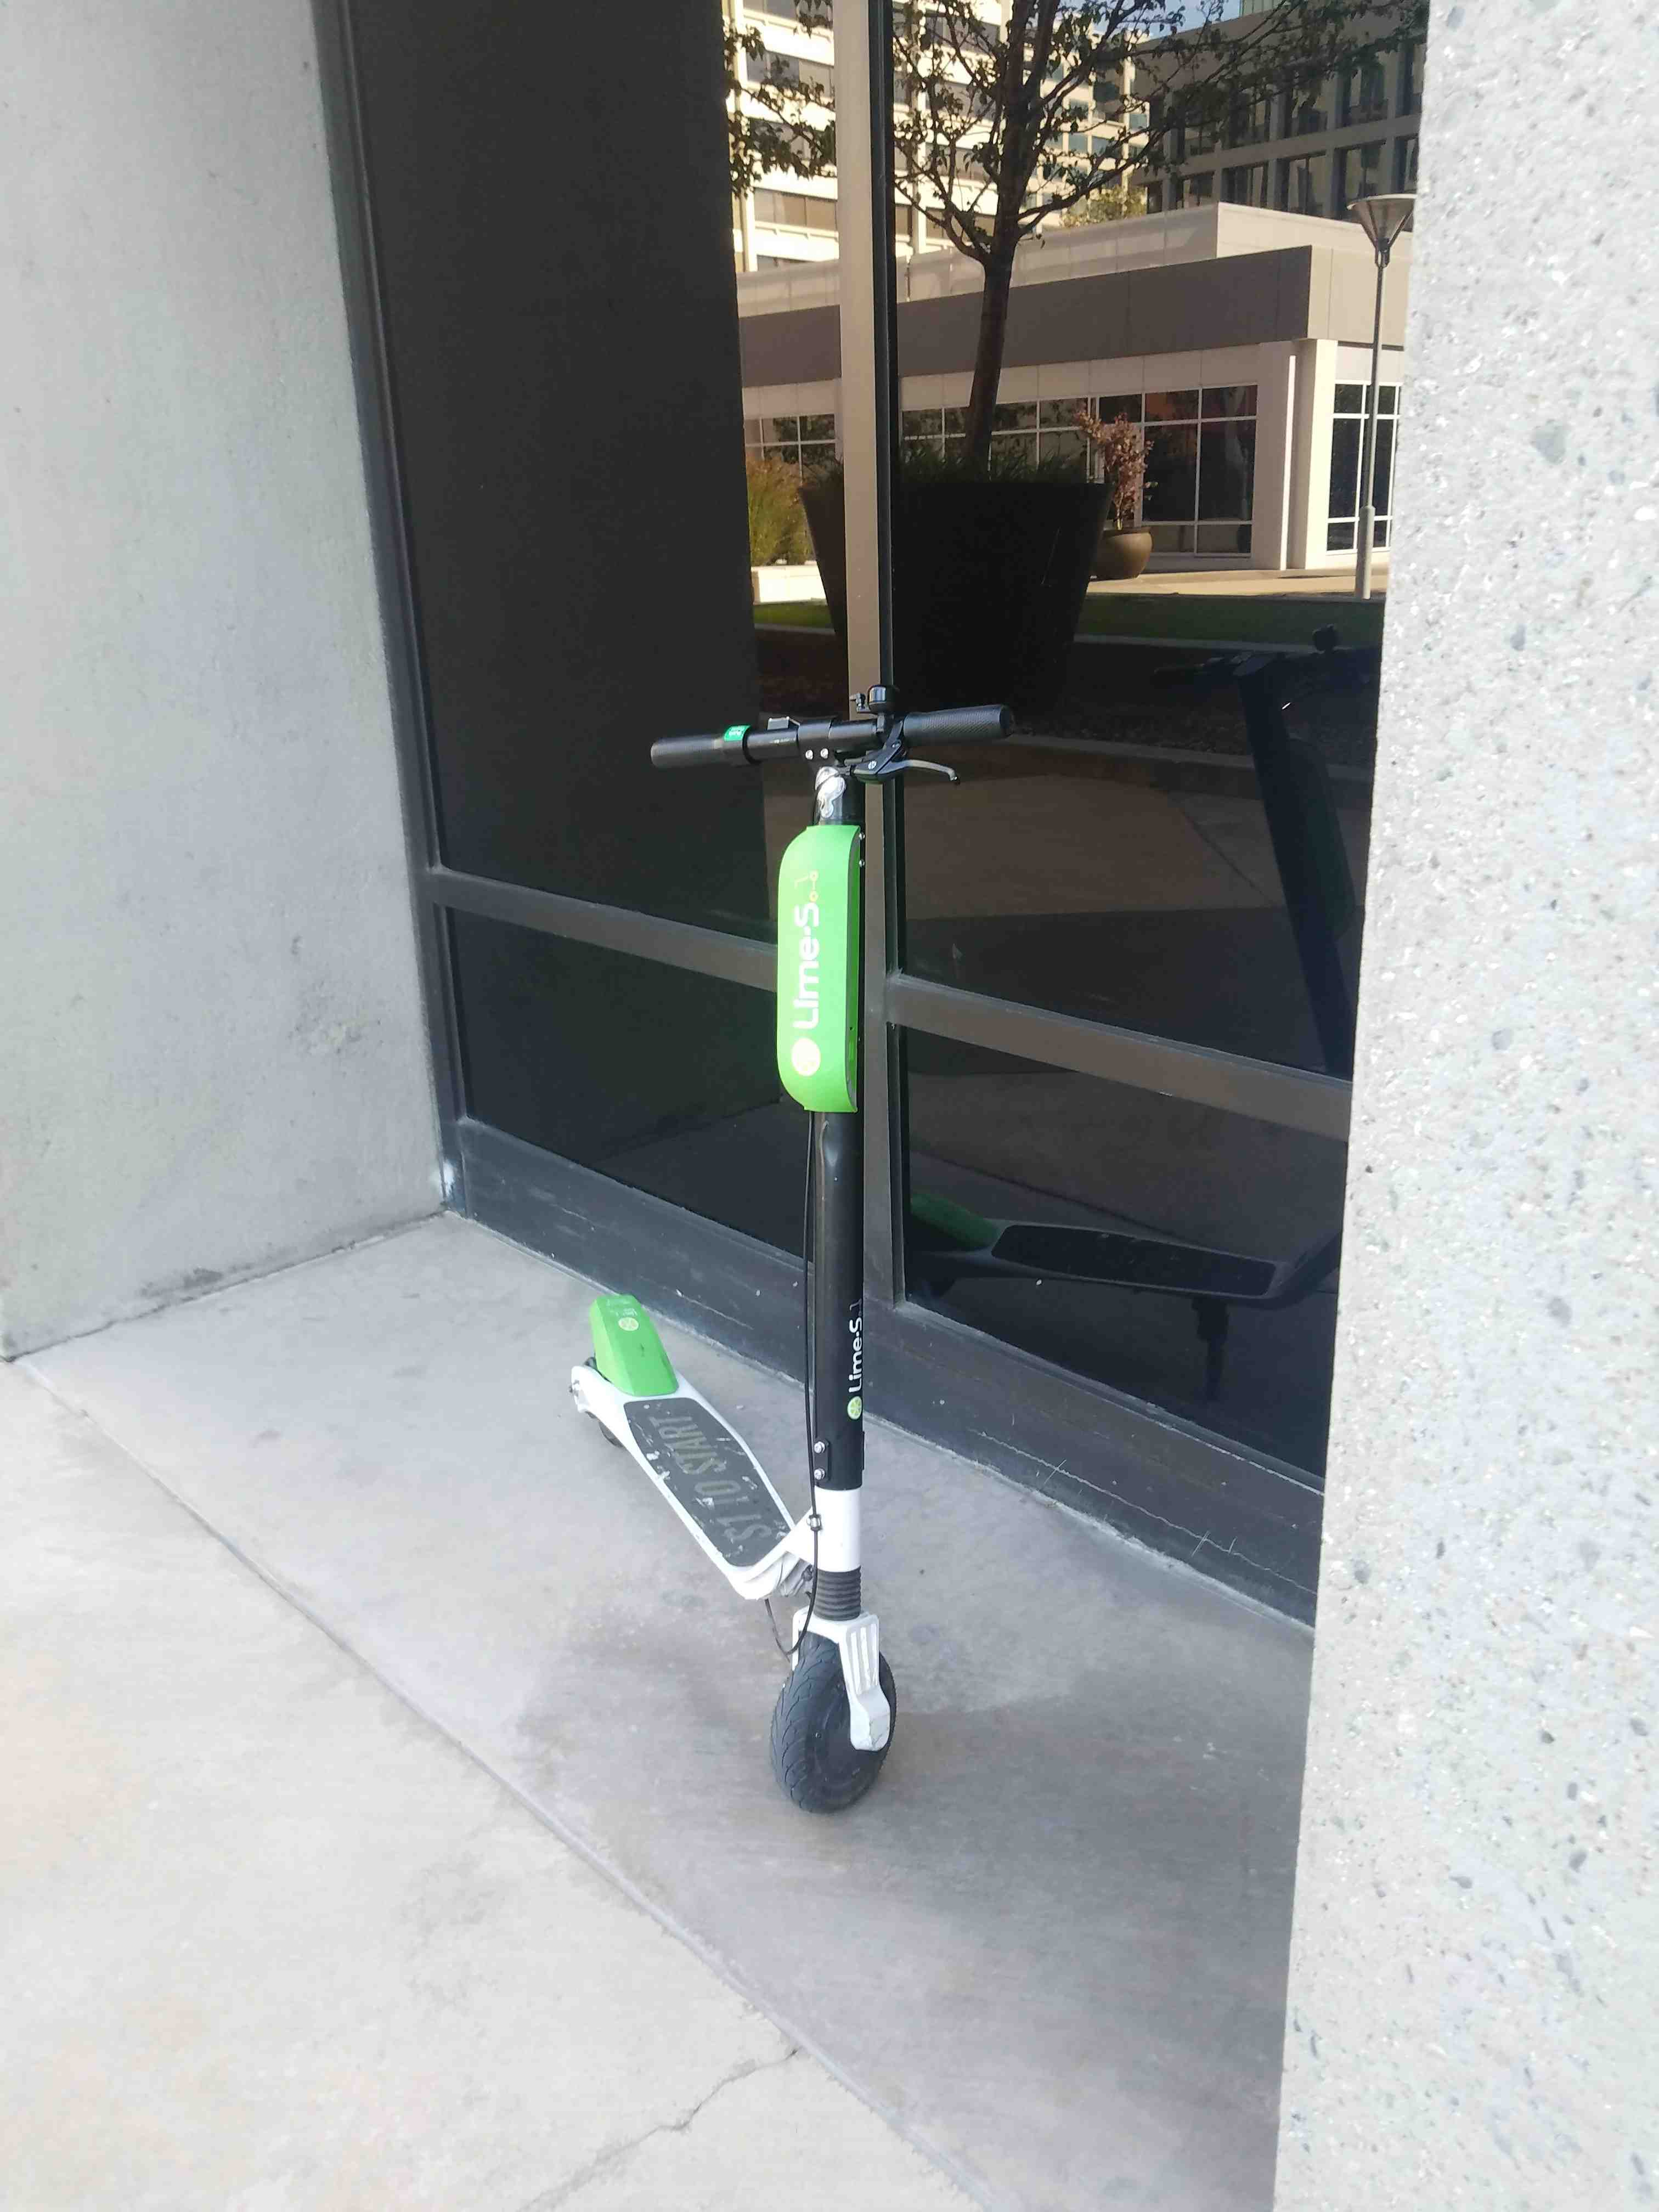scooter: (521, 700, 1049, 1881)
